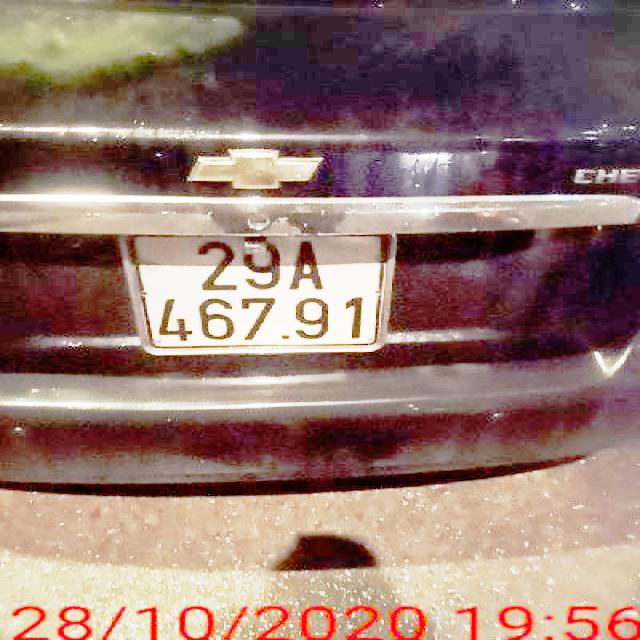license_plate: (125, 232, 388, 356)
